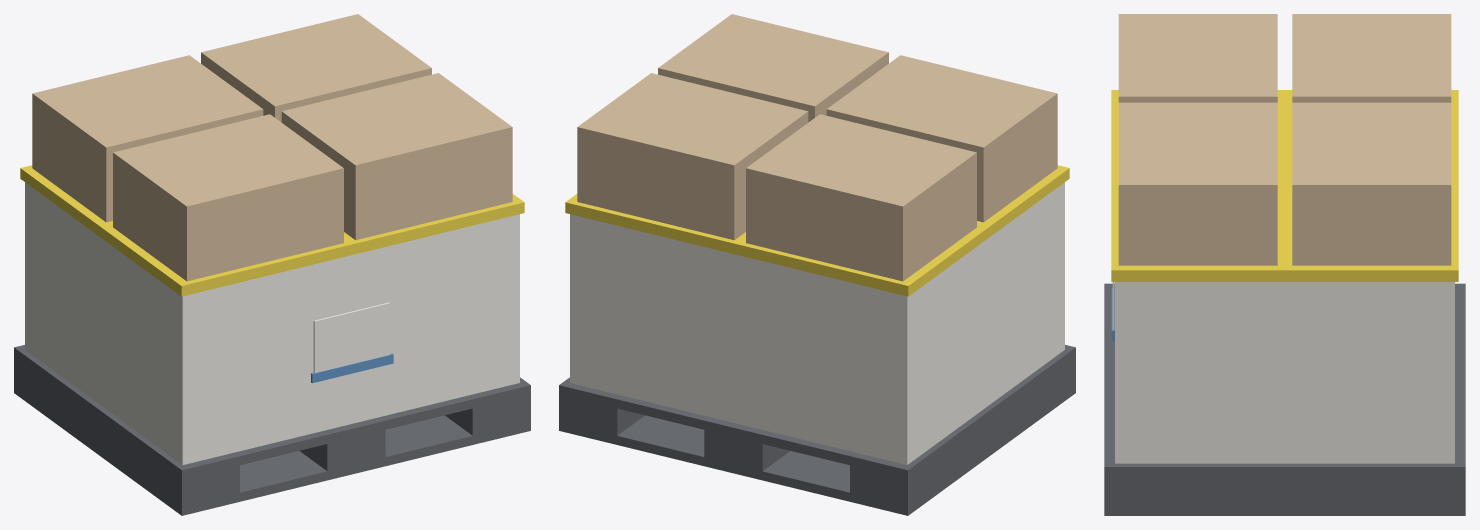
File: pallet-of-parcels-wrapped.glb
3 renders of one model, left to right at view 1: azimuth 30°, elevation 25°; view 2: azimuth 150°, elevation 25°; view 3: azimuth 270°, elevation 25°, orthographic. The views are drawn at different scales.
Visible parts, largest first — view 1: parcel-depot-and-sorting-hall-pallet-of-parcels; view 2: parcel-depot-and-sorting-hall-pallet-of-parcels; view 3: parcel-depot-and-sorting-hall-pallet-of-parcels.
Part boxes in pixels (x1,y1,x2,y2): parcel-depot-and-sorting-hall-pallet-of-parcels: [14, 14, 530, 515]; parcel-depot-and-sorting-hall-pallet-of-parcels: [559, 14, 1075, 515]; parcel-depot-and-sorting-hall-pallet-of-parcels: [1104, 14, 1465, 515].
Bounding box in the file's own units: 1.2 × 0.9912 × 1.
